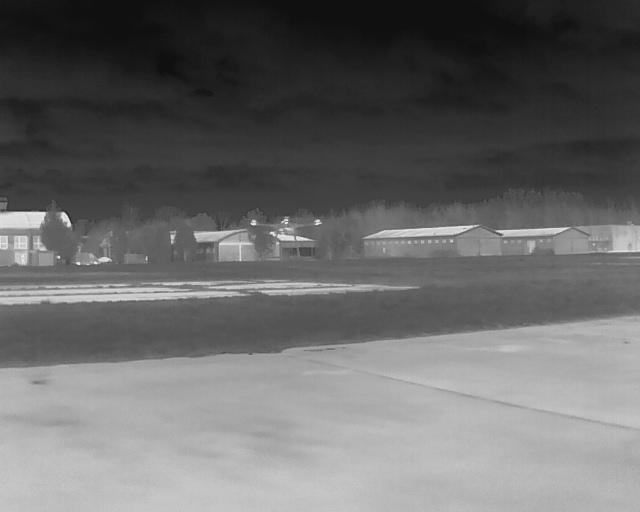drone: (241, 201, 328, 264)
